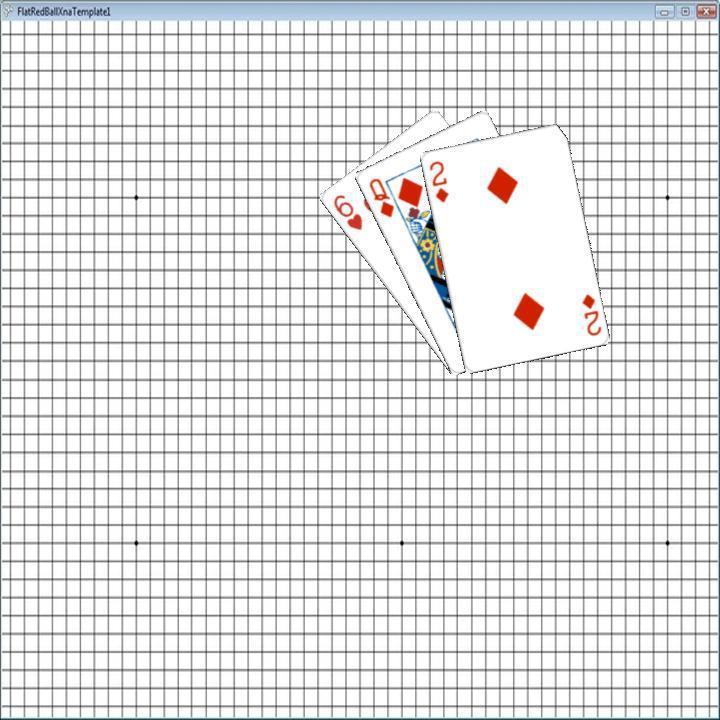2: (577, 289, 603, 338), (424, 156, 450, 204)
6: (328, 190, 364, 232)
Q: (364, 173, 396, 220)
